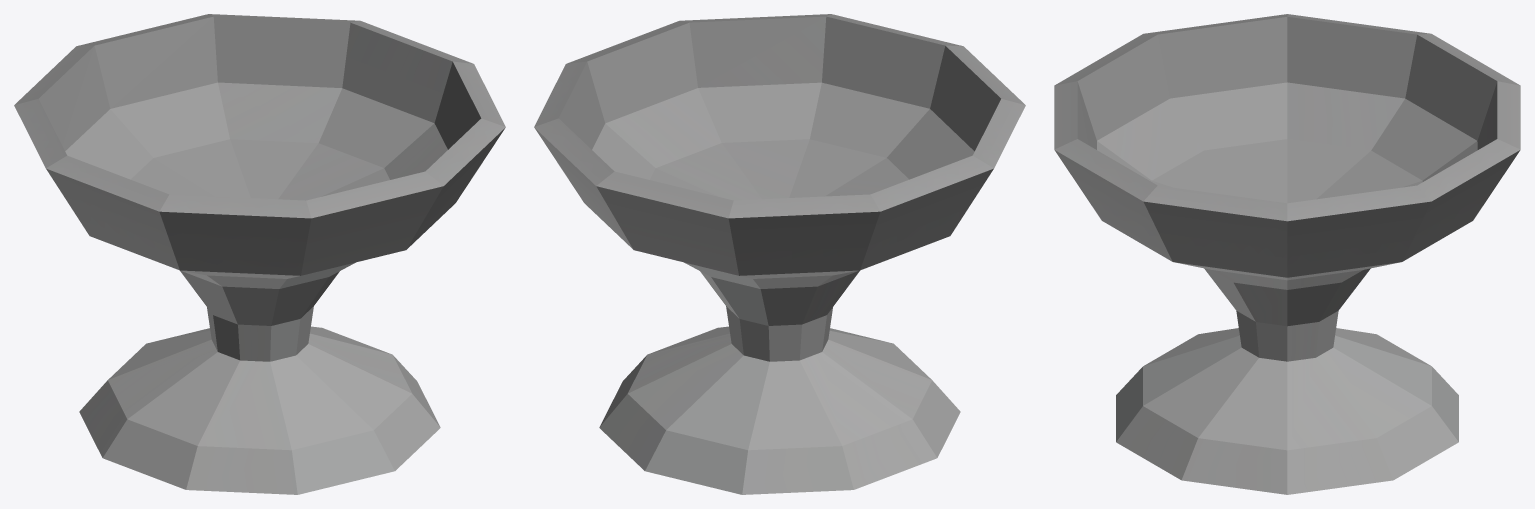
The model's file is bowlempty.glb.
3 views of the same model, side by side, from view 1: azimuth 30°, elevation 25°; view 2: azimuth 150°, elevation 25°; view 3: azimuth 270°, elevation 25° (orthographic).
Visible parts, largest first — view 1: BowlEmpty_mesh1; view 2: BowlEmpty_mesh1; view 3: BowlEmpty_mesh1.
Part boxes in pixels (x1,y1,x2,y2): BowlEmpty_mesh1: [14, 14, 505, 494]; BowlEmpty_mesh1: [534, 14, 1025, 494]; BowlEmpty_mesh1: [1054, 14, 1520, 494].
Bounding box in the file's own units: 0.3069 × 0.2131 × 0.2919.
1 material, 1 textured.
